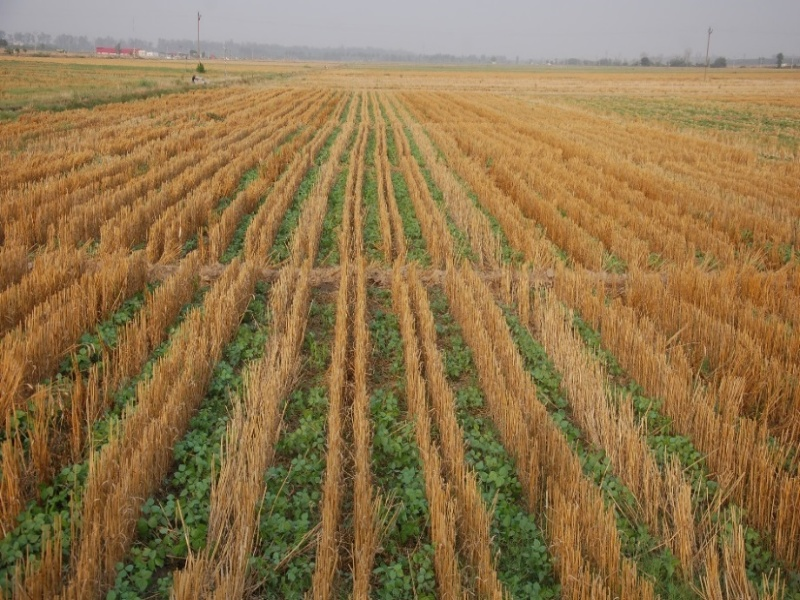wheat: (664, 331, 795, 551), (10, 435, 164, 593), (578, 290, 800, 368), (424, 472, 500, 596), (5, 272, 102, 348), (315, 486, 374, 596), (408, 373, 466, 481), (328, 409, 372, 482), (228, 394, 268, 472), (51, 355, 96, 419)
